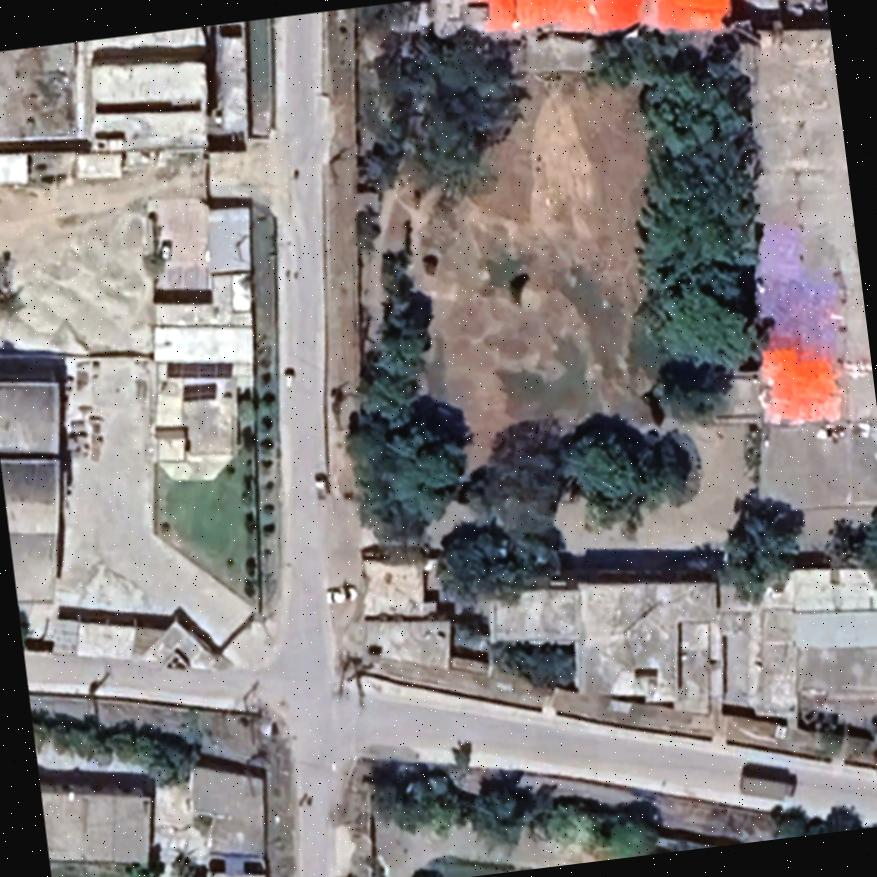Solarpanel: (162, 359, 236, 382), (178, 381, 218, 403)
